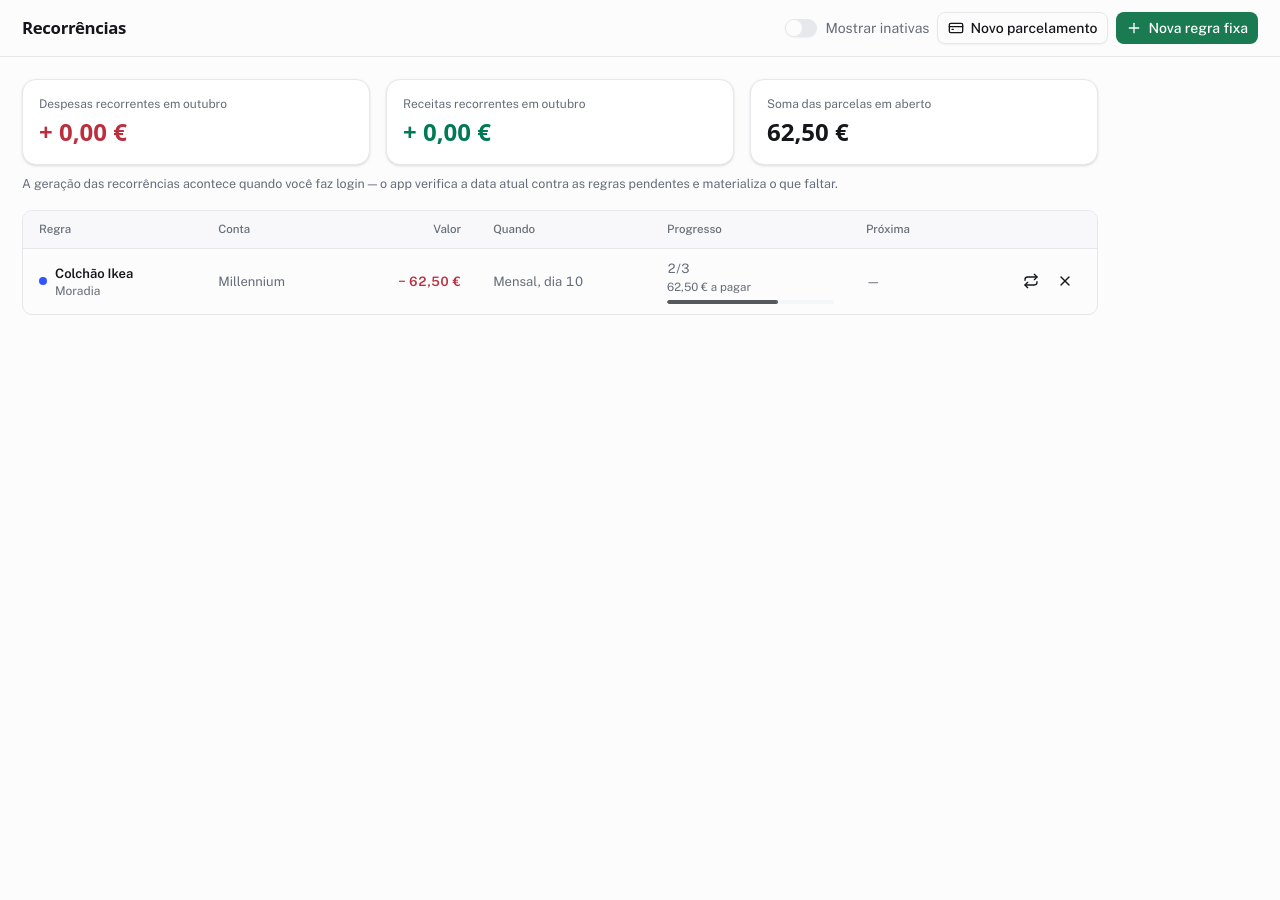
Test: RecurrencesPage › cancels an installment plan through the destructive ConfirmDialog
The image size is (1280, 900).
Check: the text "Colchão Ikea" is shown, box [55, 264, 133, 283]
Step 1. Click the button named "Cancelar parcelas futuras" → (1065, 281), box [1049, 265, 1081, 297]
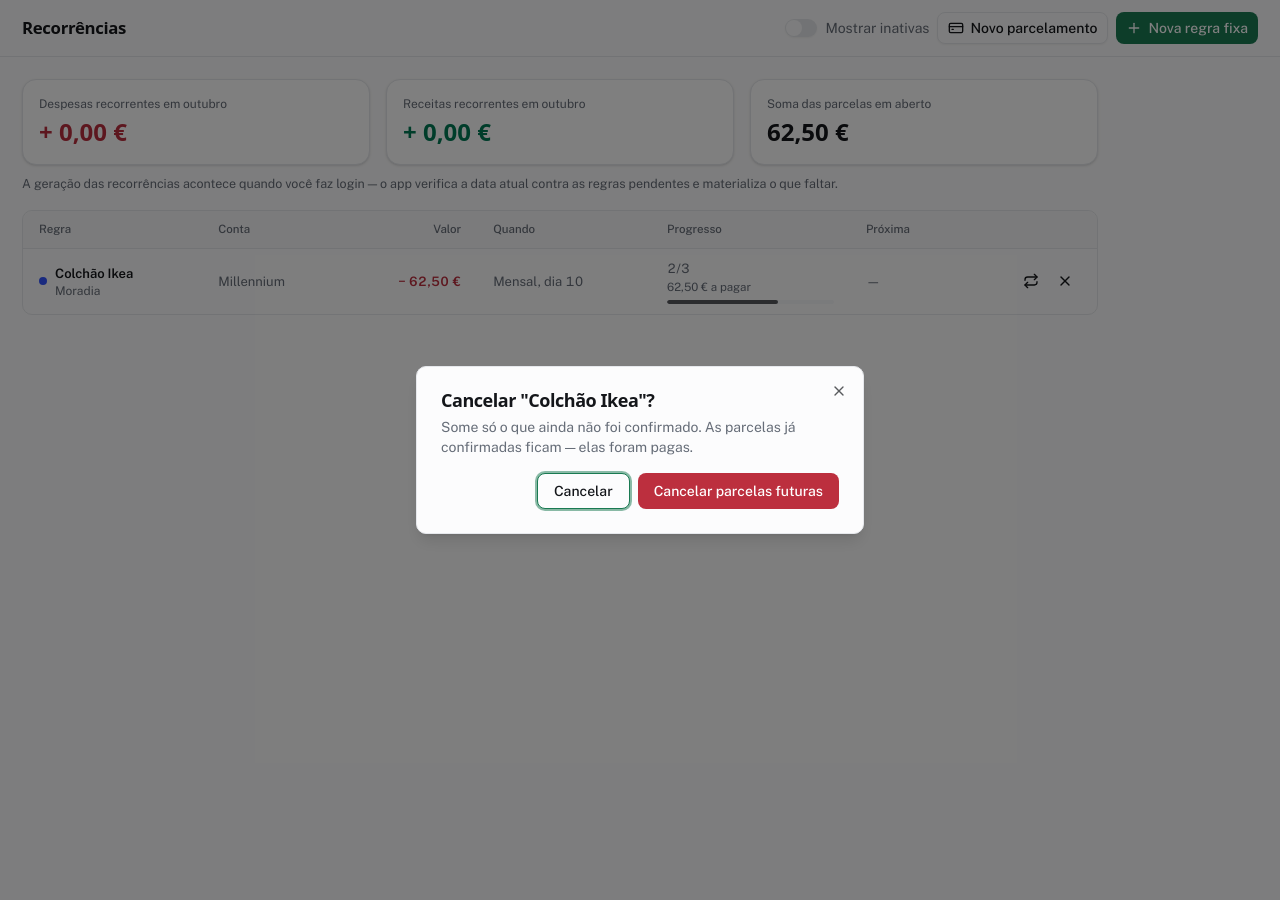
Step 2. Click the button "Cancelar parcelas futuras" → (738, 491), box [638, 473, 839, 509]
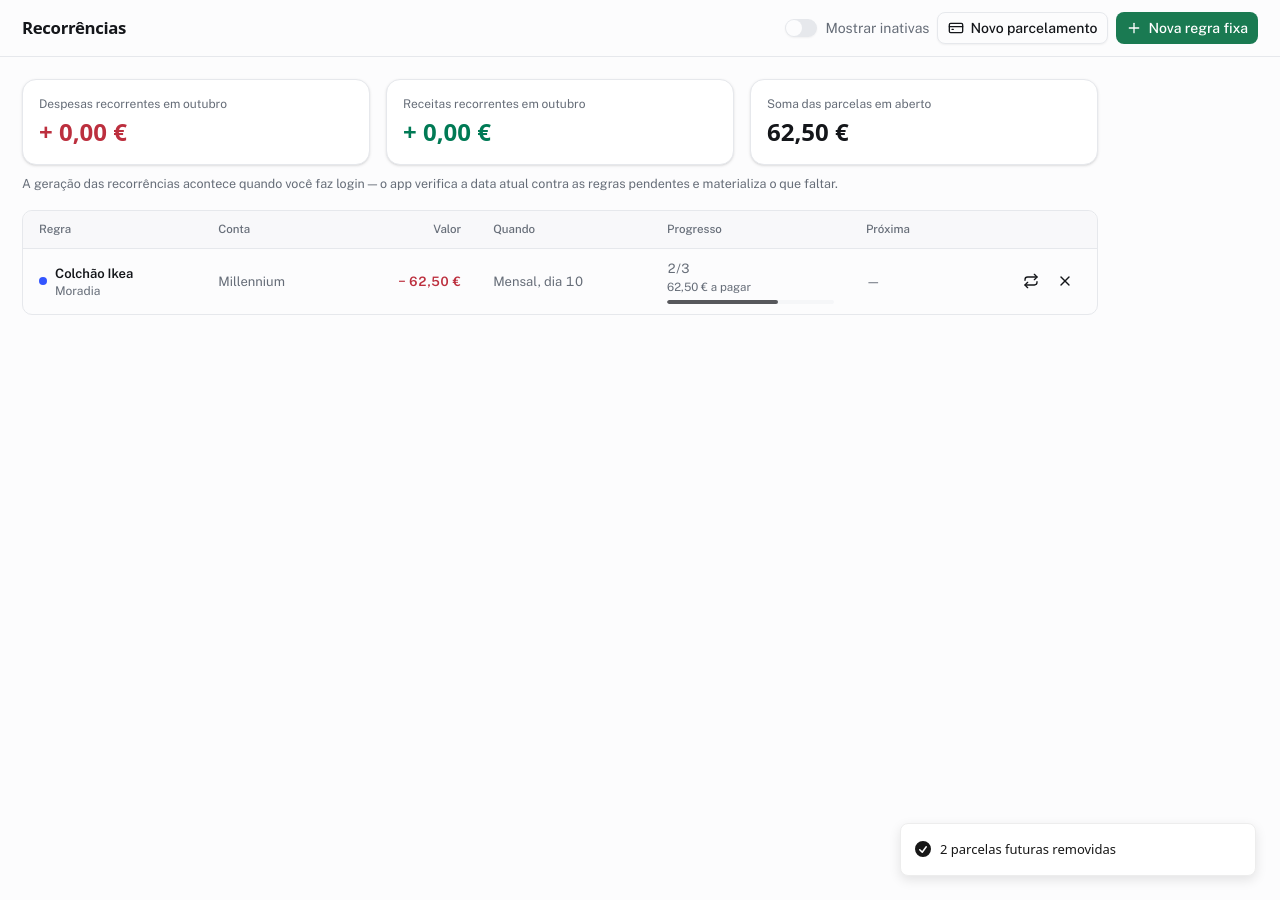
Check: the text "2 parcelas futuras removidas" is shown, box [940, 840, 1116, 859]
